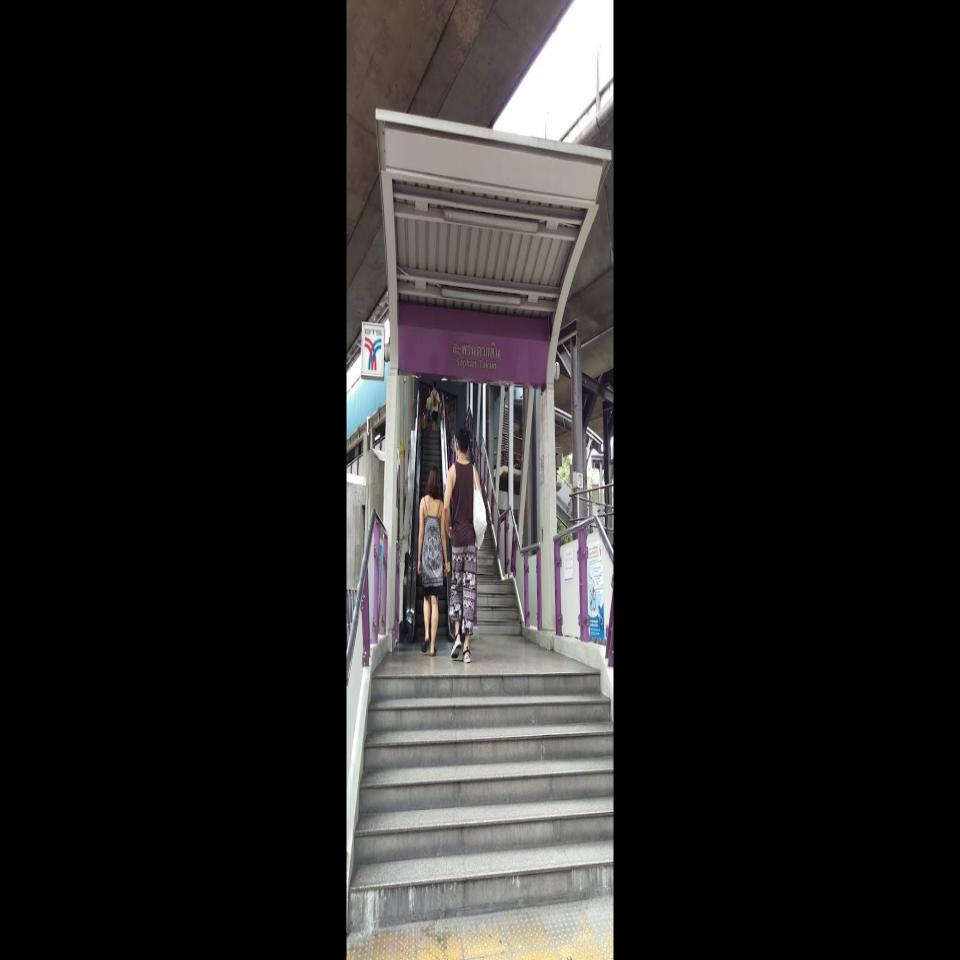signage: (360, 320, 550, 385), (399, 323, 550, 385)
